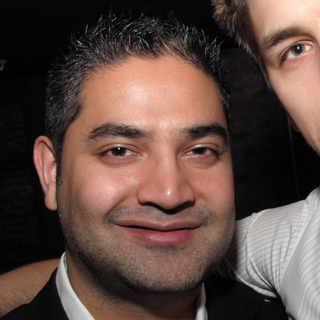eye: (271, 38, 320, 68), (88, 141, 144, 167), (175, 139, 221, 166)
